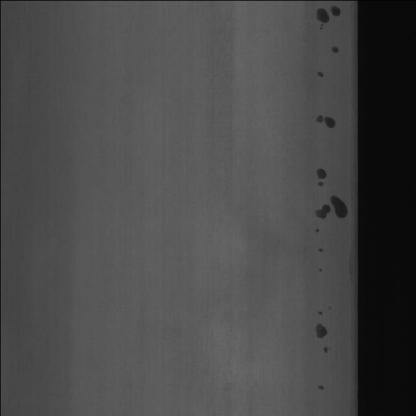oil_spot: (312, 167, 348, 255), (315, 4, 342, 56), (310, 99, 340, 138), (312, 306, 334, 354), (316, 66, 326, 82)
